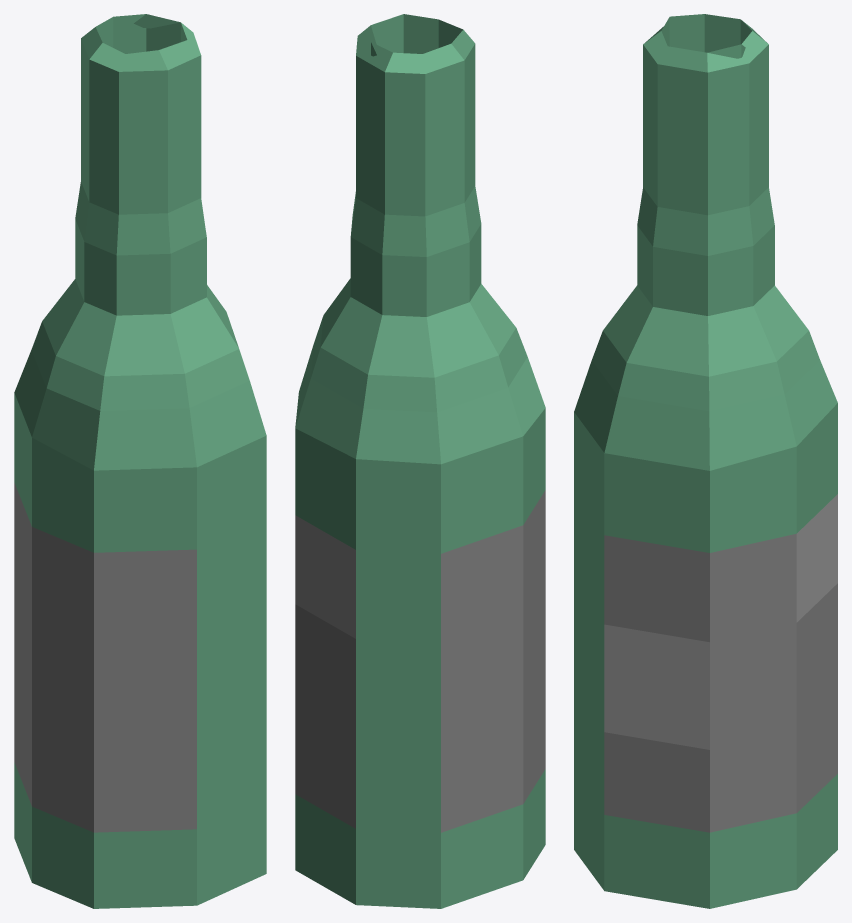
File: Bottle.fbx
3 views of the same model, side by side, from view 1: azimuth 30°, elevation 25°; view 2: azimuth 150°, elevation 25°; view 3: azimuth 270°, elevation 25° (orthographic).
Visible parts, largest first — view 1: pCube1; view 2: pCube1; view 3: pCube1.
Part boxes in pixels (x1,y1,x2,y2): pCube1: [14, 14, 266, 908]; pCube1: [295, 14, 545, 908]; pCube1: [574, 14, 837, 908].
Bounding box in the file's own units: 0.9328 × 3.31 × 0.9621.
